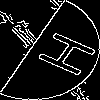H: (25, 25, 98, 79)
